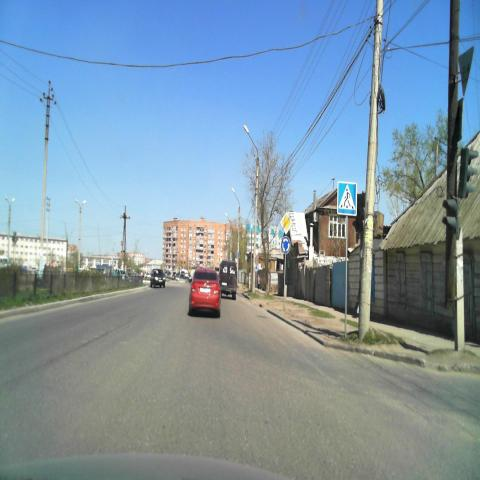2_2: (280, 211, 292, 234)
4_3: (281, 236, 291, 254)
